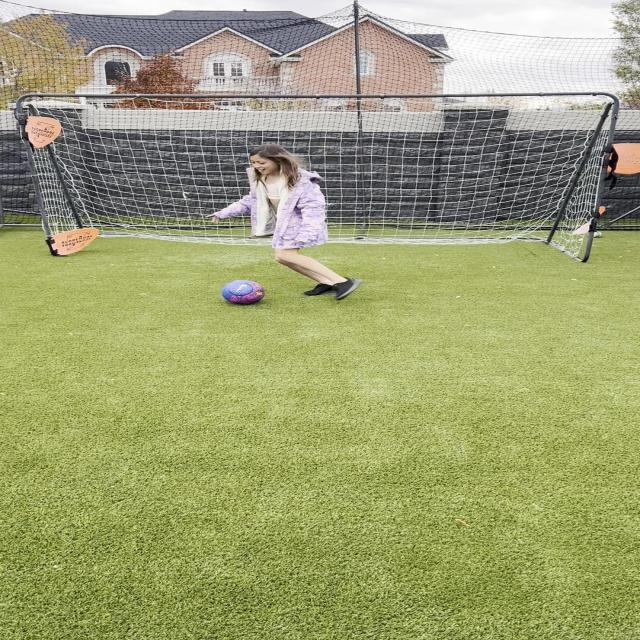Soccer Ball: (223, 279, 266, 306)
